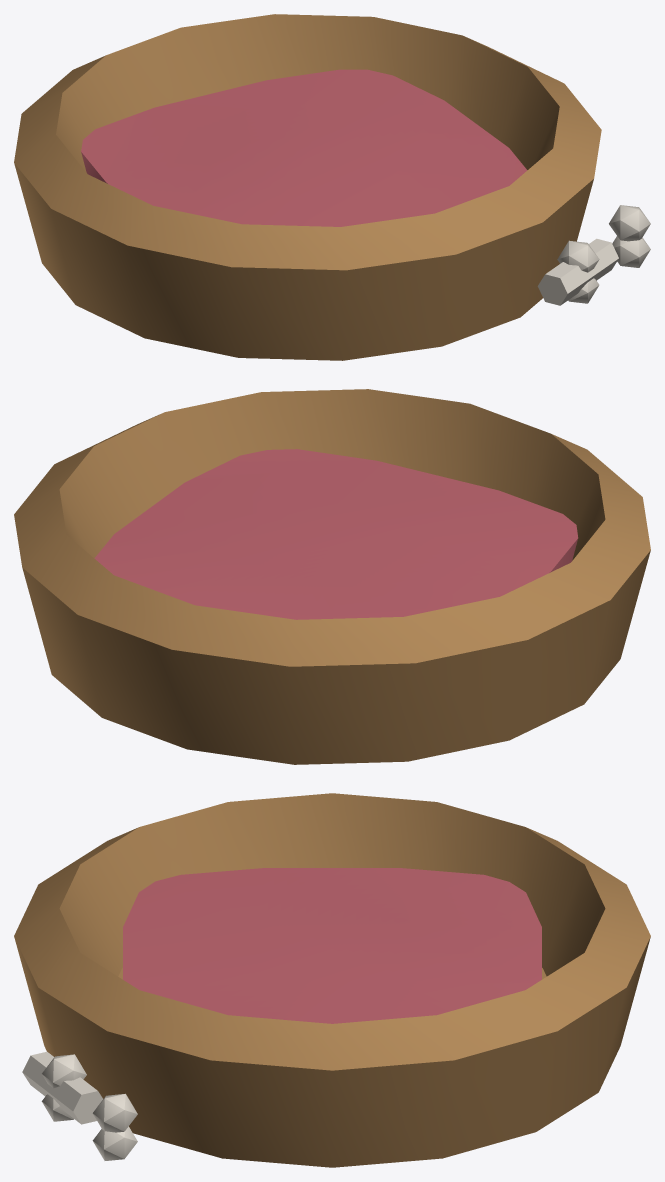
File: pet_bed.glb
3 views of the same model, one above another, from view 1: azimuth 30°, elevation 25°; view 2: azimuth 150°, elevation 25°; view 3: azimuth 270°, elevation 25° (orthographic). The views are drawn at different scales.
Visible parts, largest first — view 1: furniture-pet_bed; view 2: furniture-pet_bed; view 3: furniture-pet_bed.
Boxes of the visible parts, box(x1,y1,x2,y2) form: furniture-pet_bed: box(14, 14, 650, 360); furniture-pet_bed: box(14, 389, 650, 764); furniture-pet_bed: box(14, 793, 650, 1167).
Bounding box in the file's own units: 0.84 × 0.2 × 0.84.
